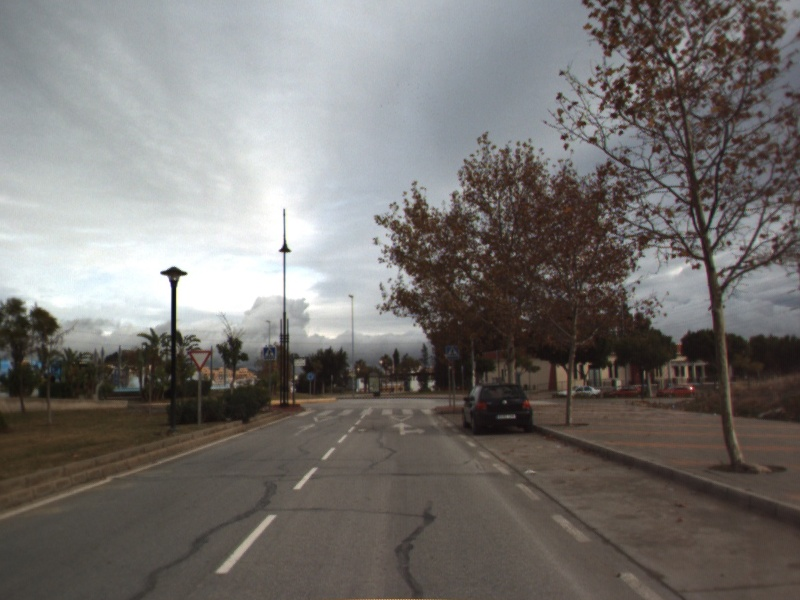STRAIGHT: (292, 421, 320, 438)
STRAIGHT_RIGHT: (390, 421, 427, 437)
